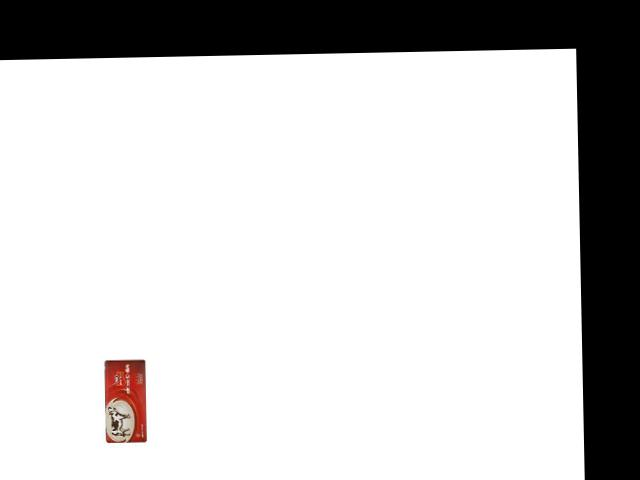chocolate: (104, 357, 149, 442)
